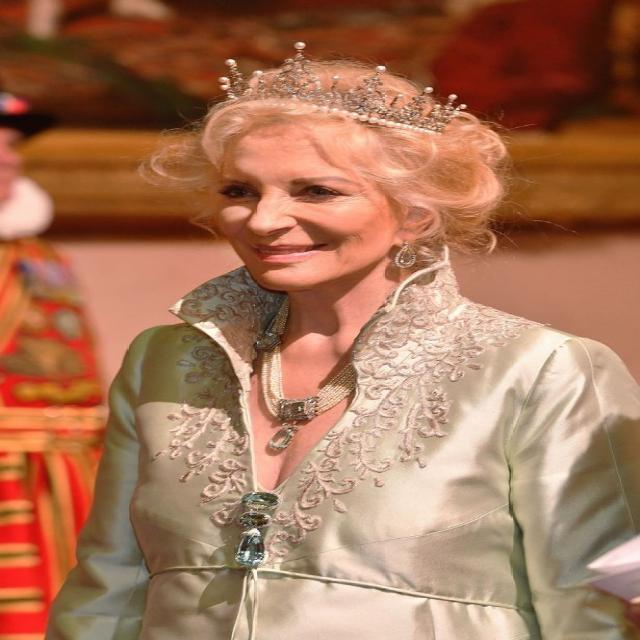Earring: (388, 228, 423, 274)
